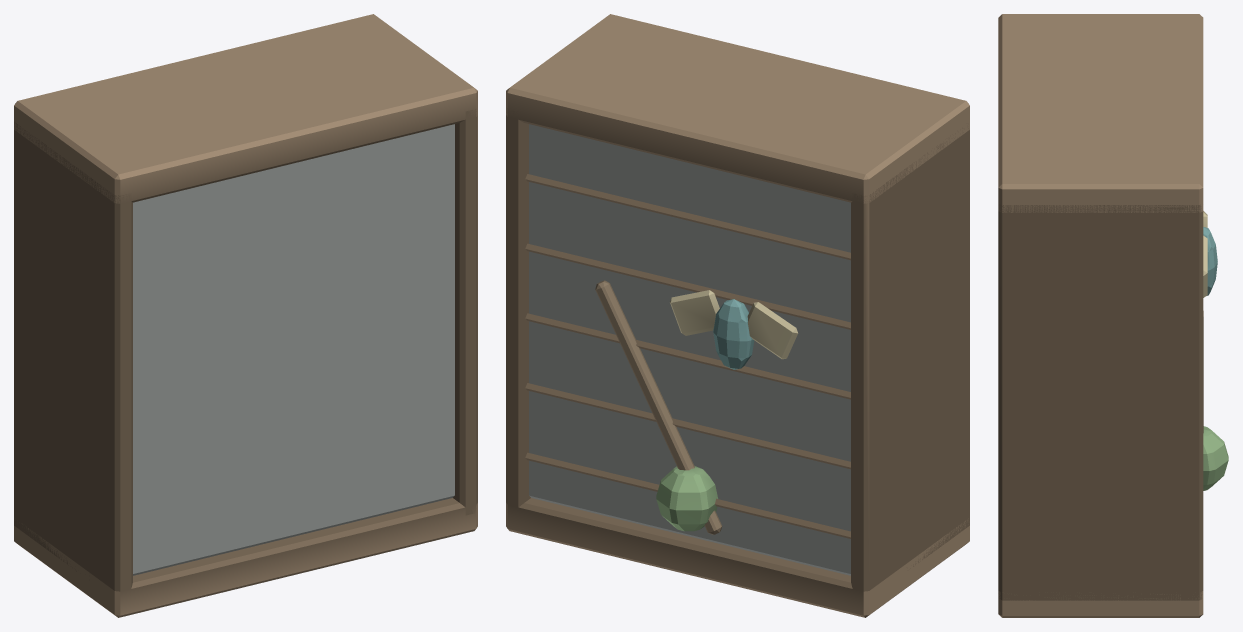
File: furn_insect_case__walnut.glb
The picture shows the model from 3 angles, left to right: view 1: azimuth 30°, elevation 25°; view 2: azimuth 150°, elevation 25°; view 3: azimuth 270°, elevation 25°; orthographic projection. The views are drawn at different scales.
Size of the model in its own units: 0.6 by 0.7 by 0.3369.
